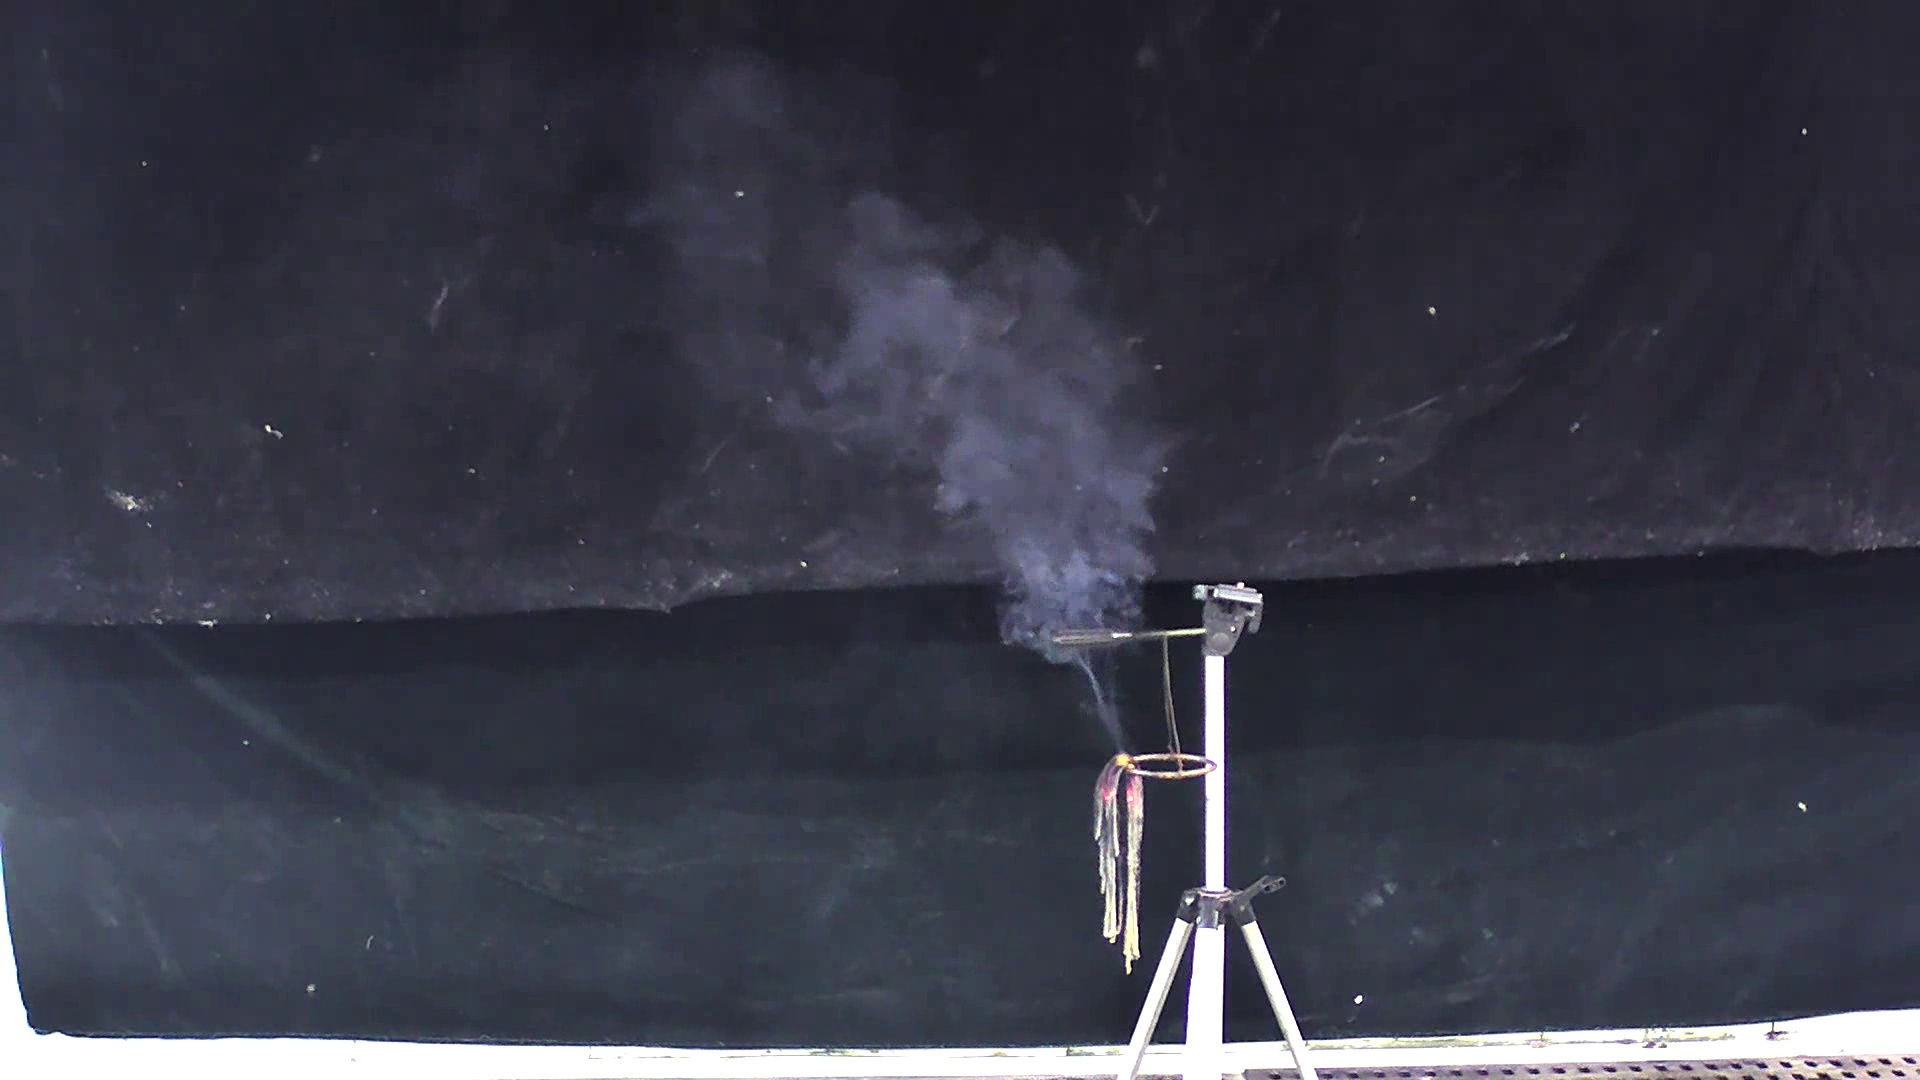smoke: (667, 127, 1160, 746)
